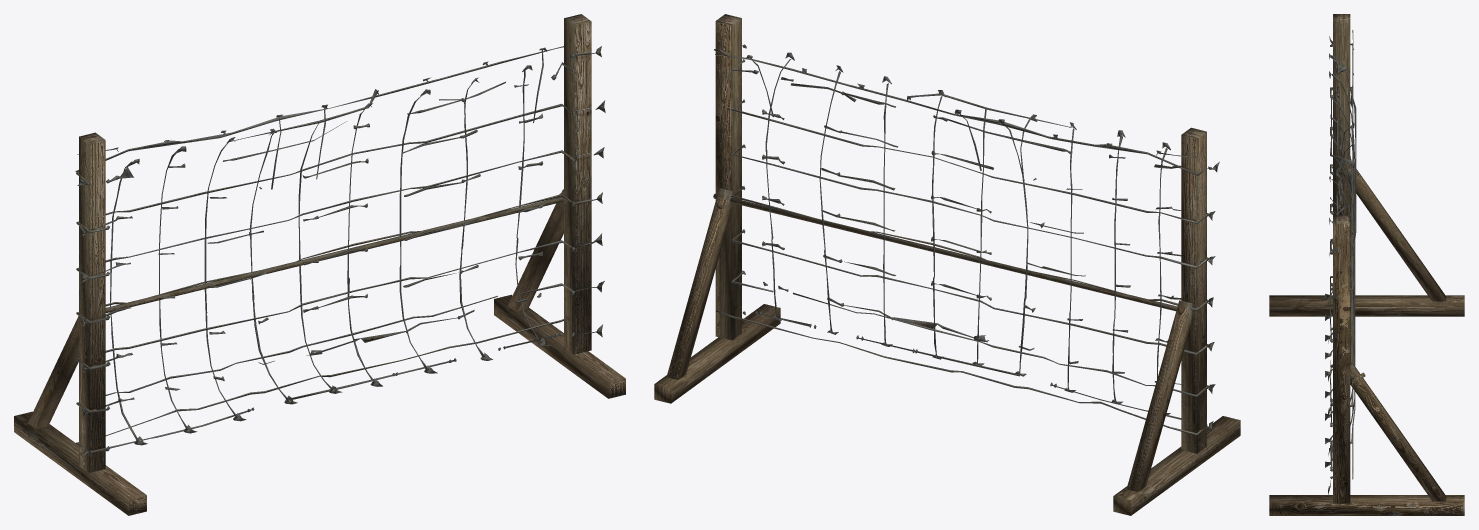
The model's file is barbed wire obstacle 3d model.glb.
The picture shows the model from 3 angles, left to right: view 1: azimuth 30°, elevation 25°; view 2: azimuth 150°, elevation 25°; view 3: azimuth 270°, elevation 25°; orthographic projection. The views are drawn at different scales.
Visible parts, largest first — view 1: tripo_node_b08843b5-fb4d-4657-afae-7522dc39fd53; view 2: tripo_node_b08843b5-fb4d-4657-afae-7522dc39fd53; view 3: tripo_node_b08843b5-fb4d-4657-afae-7522dc39fd53.
Part boxes in pixels (box(x1,y1,x2,y2)): tripo_node_b08843b5-fb4d-4657-afae-7522dc39fd53: box(14, 14, 625, 515); tripo_node_b08843b5-fb4d-4657-afae-7522dc39fd53: box(654, 14, 1240, 515); tripo_node_b08843b5-fb4d-4657-afae-7522dc39fd53: box(1269, 14, 1464, 515).
Bounding box in the file's own units: 0.998 × 0.627 × 0.377.
1 material, 1 textured.
